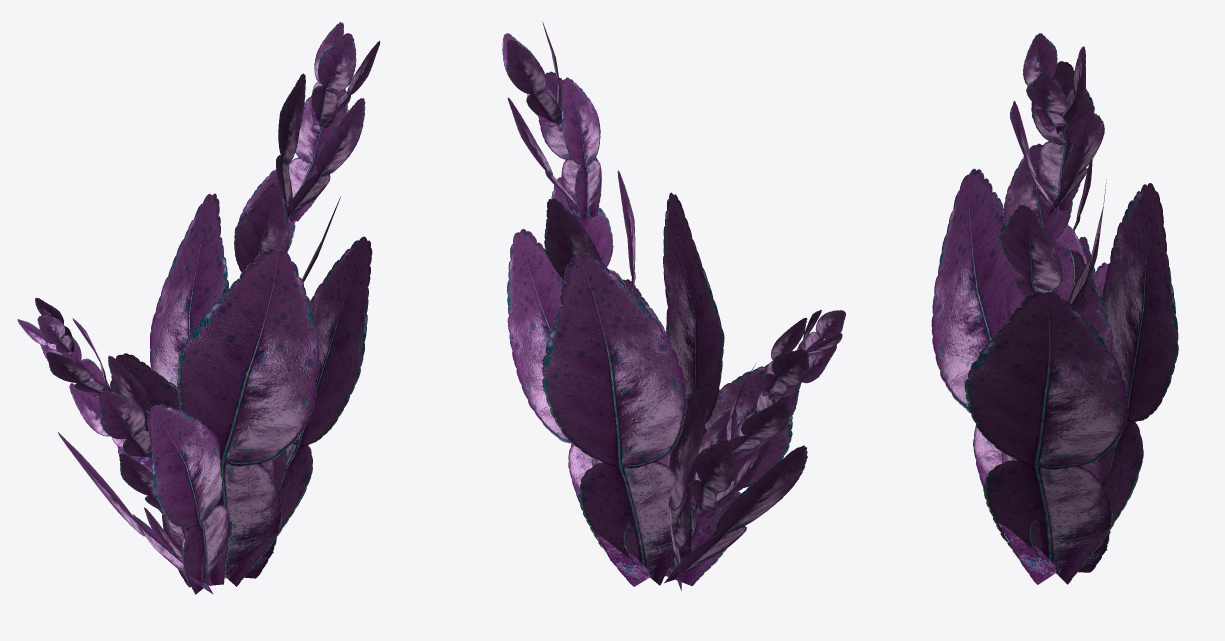
File: violet2.FBX
3 renders of one model, left to right at view 1: azimuth 30°, elevation 25°; view 2: azimuth 150°, elevation 25°; view 3: azimuth 270°, elevation 25°, orthographic. The views are drawn at different scales.
Parts seen in each view (by area): view 1: Plane108; view 2: Plane108; view 3: Plane108.
Part boxes in pixels (left/top/right/bottom): Plane108: left=17, top=22, right=380, bottom=594; Plane108: left=502, top=21, right=845, bottom=590; Plane108: left=931, top=33, right=1178, bottom=584.
Size of the model in its own units: 206 by 295 by 135.
